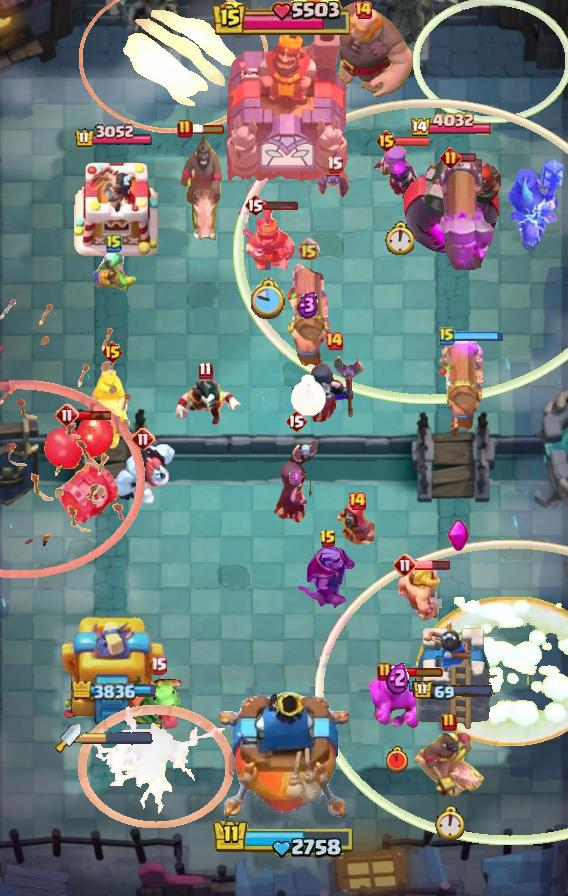balloon: (309, 0, 417, 100)
bar: (62, 611, 166, 731)
barbarian-barrel: (317, 172, 351, 198)
barbarian-evolution: (78, 705, 234, 828)
battle-healer: (284, 255, 332, 369), (438, 335, 484, 439)
bowler: (335, 501, 379, 551)
clock: (212, 818, 356, 860), (213, 0, 355, 38)
earthquake: (242, 205, 296, 275)
electro-spirit: (386, 661, 409, 695), (297, 291, 319, 319), (289, 468, 303, 486)
electro-wizard: (125, 669, 191, 731)
elite-barbarian: (91, 368, 133, 450)
elixir: (289, 374, 326, 417), (251, 277, 287, 318), (434, 805, 464, 840), (384, 221, 414, 255), (386, 746, 408, 773)
emote: (391, 666, 444, 678), (452, 330, 504, 342), (190, 123, 226, 135), (263, 199, 299, 211), (77, 409, 113, 421), (415, 559, 451, 571), (395, 136, 431, 147), (459, 152, 478, 163)
freeze: (166, 134, 224, 246), (411, 733, 487, 799)
furnace: (434, 156, 496, 270)
giant-snowball: (89, 249, 139, 293)
goblin-giant: (396, 568, 442, 622)
ice-wizard: (80, 0, 268, 132)
inferno-dragon: (507, 157, 565, 251)
king-tower: (219, 21, 349, 181), (219, 692, 349, 826)
king-tower-bar: (81, 731, 153, 745)
lumberjack: (168, 372, 242, 430)
phoenix-big: (416, 597, 568, 747)
queen-tower: (409, 616, 497, 731), (70, 154, 158, 256)
rage: (110, 442, 176, 506)
rascal-boy: (304, 353, 364, 425), (273, 438, 319, 526)
rascal-girl: (372, 144, 426, 206)
royal-recruit-evolution: (43, 413, 123, 527)
selected: (411, 112, 495, 140), (74, 124, 154, 149), (412, 680, 494, 702), (71, 680, 157, 699)
skeleton-barrel: (0, 298, 146, 578)
skeleton-king: (292, 545, 364, 611)
skeleton-king-skill: (446, 518, 470, 553)
text: (55, 403, 79, 427), (131, 427, 155, 451), (393, 553, 417, 577), (374, 129, 397, 153), (296, 238, 319, 262), (100, 340, 123, 364), (244, 193, 266, 217), (285, 409, 307, 433), (439, 147, 460, 168), (353, 0, 373, 20), (324, 331, 344, 351), (347, 491, 367, 511), (319, 529, 337, 549), (325, 155, 343, 174), (149, 657, 167, 676), (177, 119, 193, 139), (106, 233, 122, 253), (439, 326, 455, 346), (377, 662, 393, 682), (441, 712, 457, 732), (199, 360, 213, 379)
tornado: (369, 670, 425, 730)
tower-bar: (403, 138, 503, 256)
